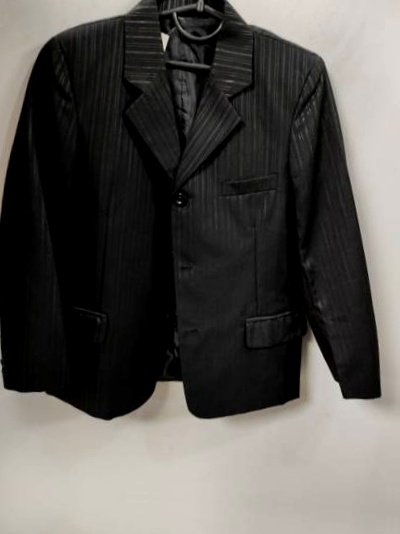Blazer: (0, 0, 400, 456)
